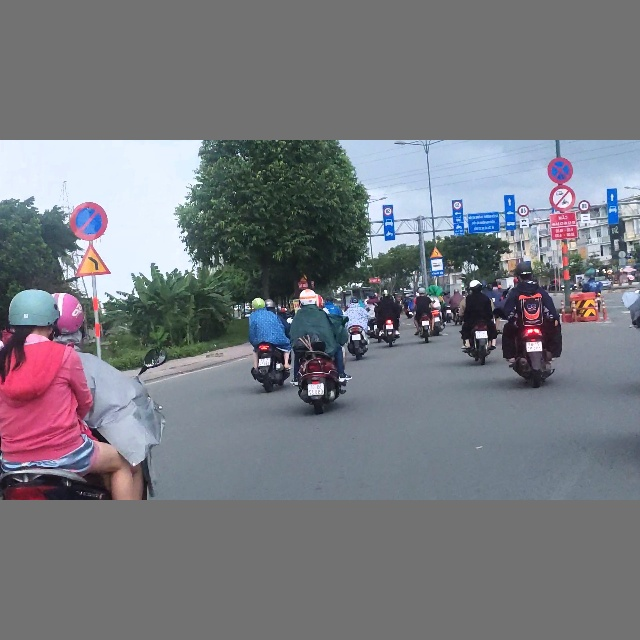I.434a: (431, 259, 444, 276)
P.111: (550, 185, 575, 212)
P.127*50: (383, 206, 392, 216), (453, 201, 462, 210)
P.127*60: (517, 204, 529, 217)
P.127*80: (578, 200, 589, 212)
P.130: (548, 157, 573, 185)
P.131a: (71, 201, 110, 241)
S.505a*Xe tai va cong: (519, 218, 530, 229)
W.201b: (73, 241, 111, 278), (431, 246, 443, 259)
